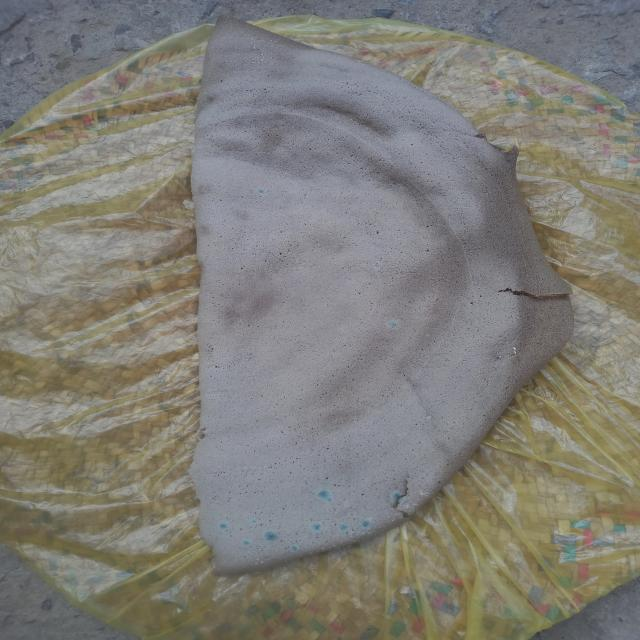injera_mold: (406, 501, 420, 516), (349, 530, 366, 542), (417, 489, 434, 500), (390, 492, 404, 505), (263, 530, 276, 542), (361, 520, 373, 529), (318, 489, 330, 498), (387, 320, 399, 329), (310, 523, 323, 531), (218, 522, 229, 530), (338, 523, 350, 530), (288, 546, 299, 553), (241, 539, 251, 546), (321, 546, 331, 552), (512, 347, 518, 357), (250, 518, 258, 525), (296, 553, 304, 558), (257, 189, 265, 194), (355, 58, 364, 62), (332, 544, 337, 548), (390, 519, 396, 522), (498, 355, 503, 358), (255, 562, 258, 566), (328, 498, 332, 501), (396, 513, 400, 516), (261, 56, 265, 59), (261, 561, 264, 564), (345, 503, 348, 506), (256, 558, 259, 560), (387, 516, 390, 518), (496, 345, 498, 348), (506, 342, 509, 344), (514, 339, 516, 342), (253, 46, 256, 48), (252, 61, 255, 63), (261, 54, 264, 56), (285, 561, 287, 563), (270, 53, 272, 55), (271, 56, 273, 58), (362, 63, 364, 65), (261, 59, 264, 60), (258, 62, 260, 63)
